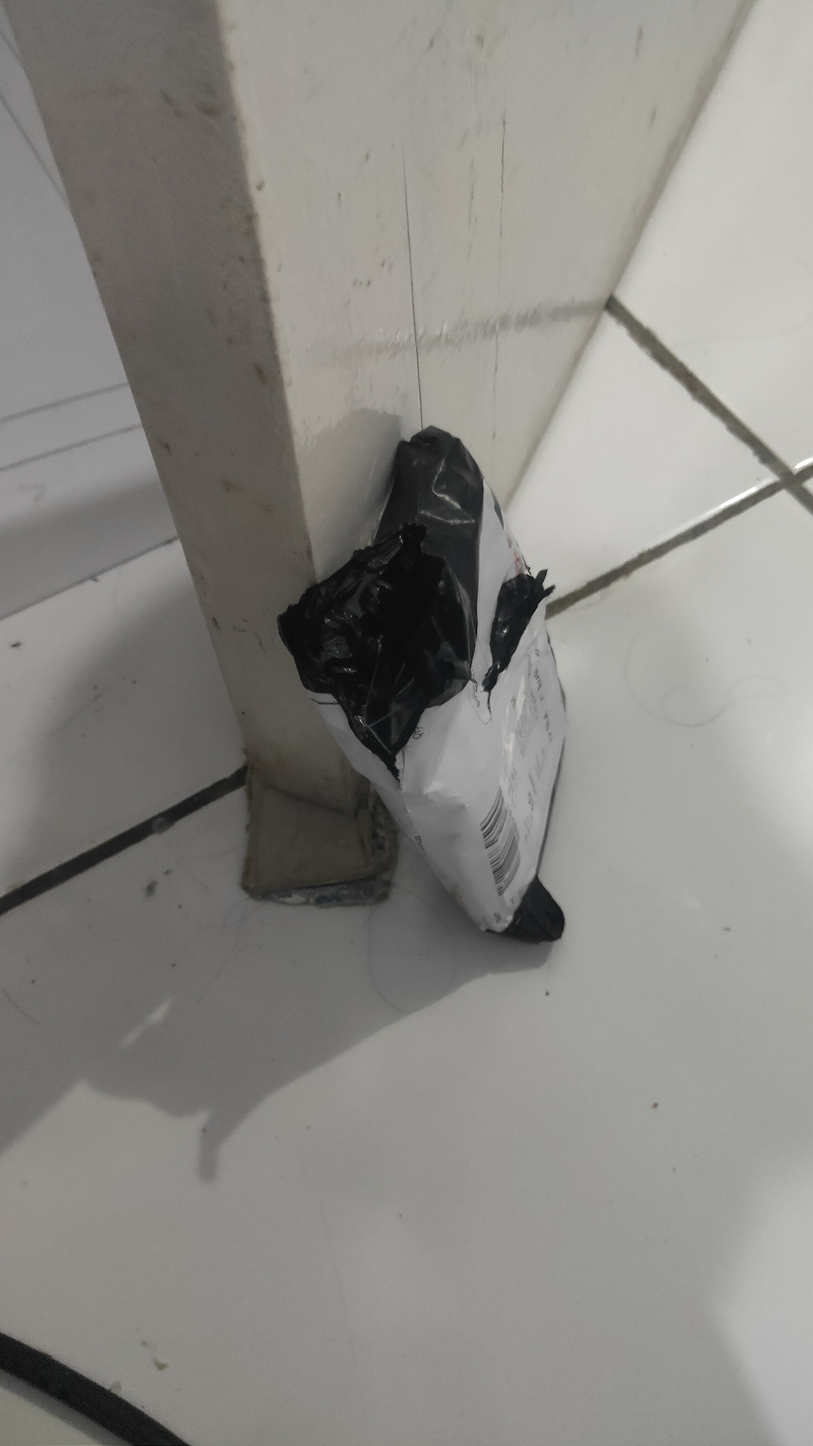damaged package: (297, 522, 472, 769), (480, 574, 551, 702)
undamaged: (280, 427, 571, 940)
